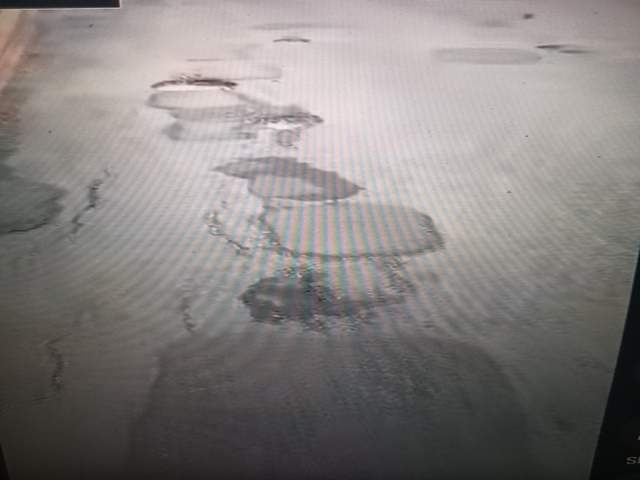pothole: (123, 403, 355, 480)
